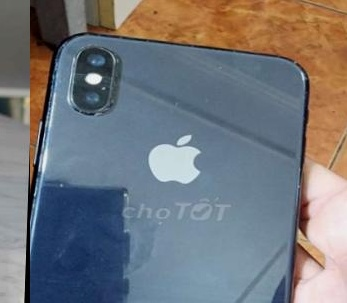scratch: (35, 40, 61, 161), (147, 91, 198, 117), (34, 173, 79, 201), (279, 57, 311, 87), (204, 53, 228, 75), (107, 52, 127, 72), (110, 185, 131, 202), (117, 226, 138, 241), (292, 182, 305, 195), (104, 98, 117, 108)
